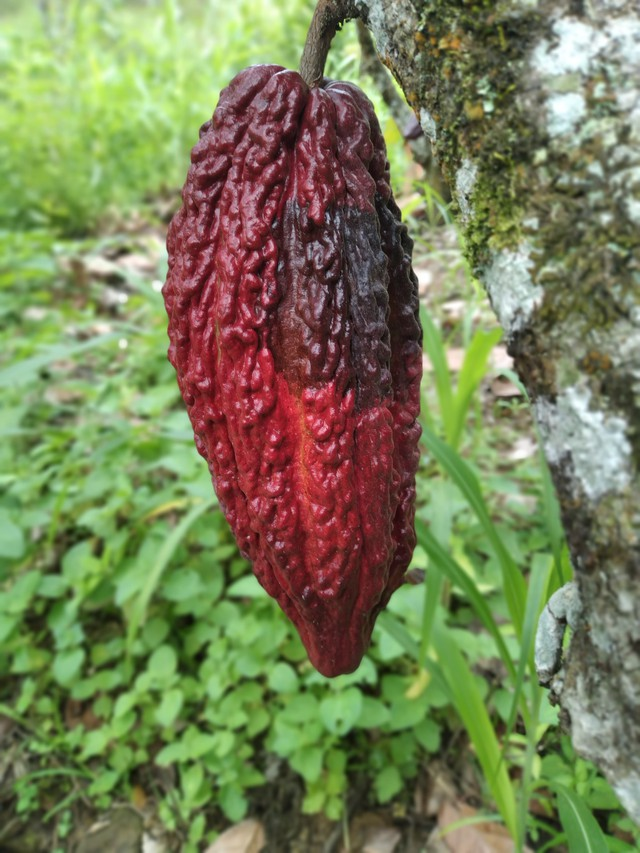phytophthora palmivora: (149, 54, 434, 682)
